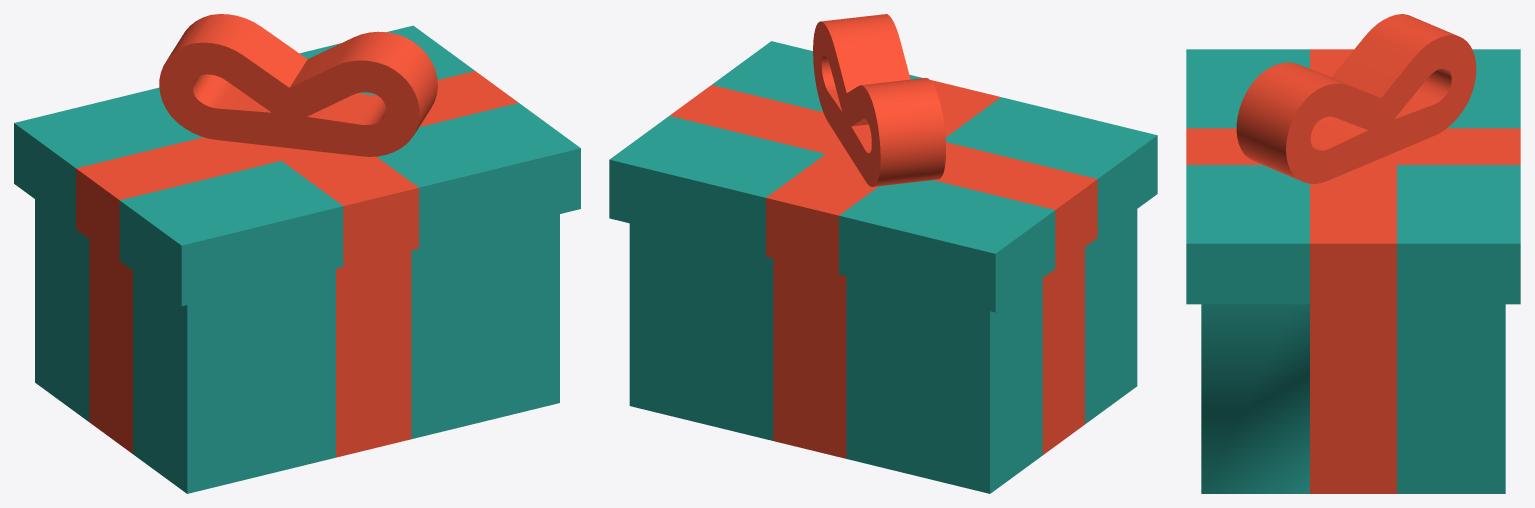
File: presentGreenLow.dae
The picture shows the model from 3 angles, left to right: view 1: azimuth 30°, elevation 25°; view 2: azimuth 150°, elevation 25°; view 3: azimuth 270°, elevation 25°; orthographic projection. The views are drawn at different scales.
Parts seen in each view (by area): view 1: lid, presentGreenLow; view 2: lid, presentGreenLow; view 3: lid, presentGreenLow.
Boxes of the visible parts, x1,y1,x2,y2 form: lid: [14, 14, 580, 306]; presentGreenLow: [35, 199, 559, 493]; lid: [609, 14, 1157, 312]; presentGreenLow: [629, 209, 1137, 493]; lid: [1186, 14, 1520, 304]; presentGreenLow: [1201, 304, 1505, 493].
Size of the model in its own units: 0.5127 by 0.4335 by 0.3727.
